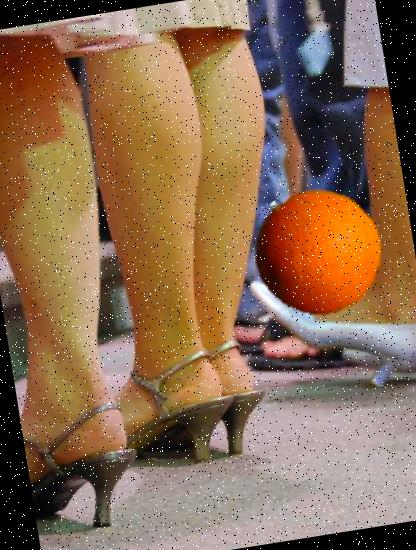Orange: (242, 176, 391, 325)
